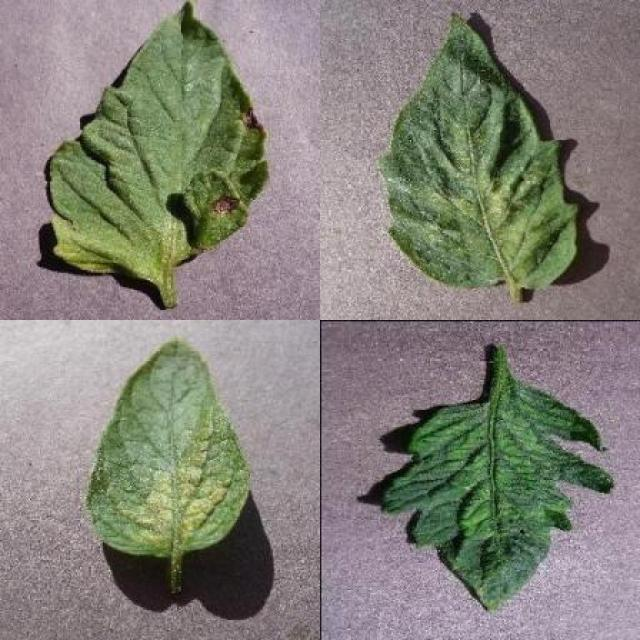Early Blight: (46, 2, 270, 278)
Mosaic Virus: (381, 378, 616, 612)
Spider Mites: (377, 11, 577, 289), (85, 338, 248, 558)
